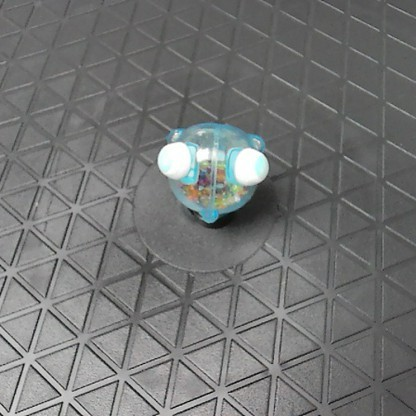bluefish: (155, 119, 269, 226)
